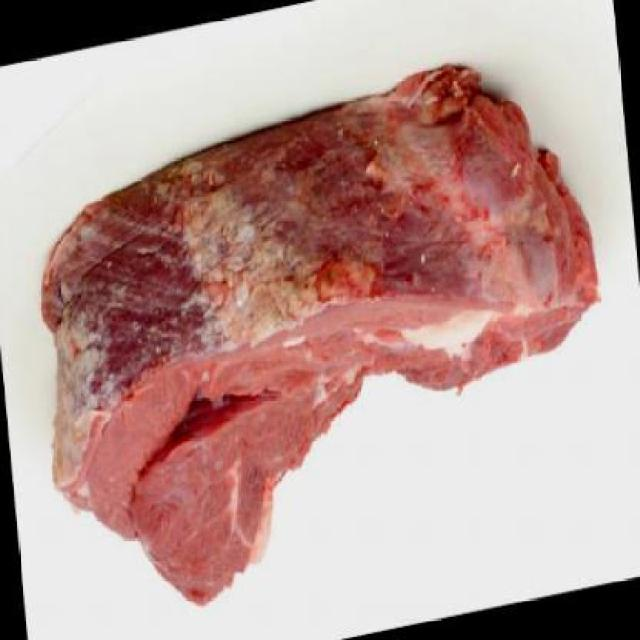beaf: (28, 60, 608, 596)
